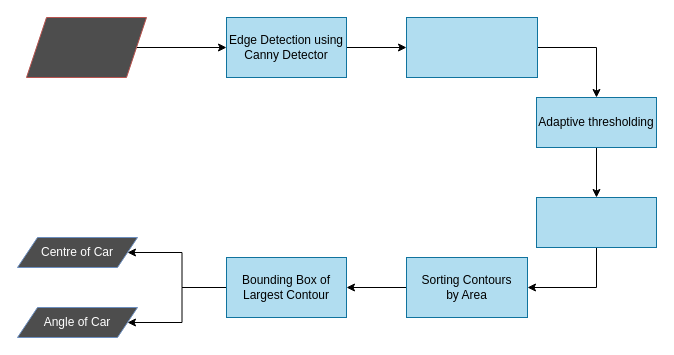
Image size: 674x355. Some labels were removed from this diagram. The shapes that lost their labels are listed below. From the top down, each one's centre as x and y in pixels, then its label:
[86,47]: RGB Image
[472,47]: High Pass Filter and Gaussian Blurring
[596,222]: Finding Contours
